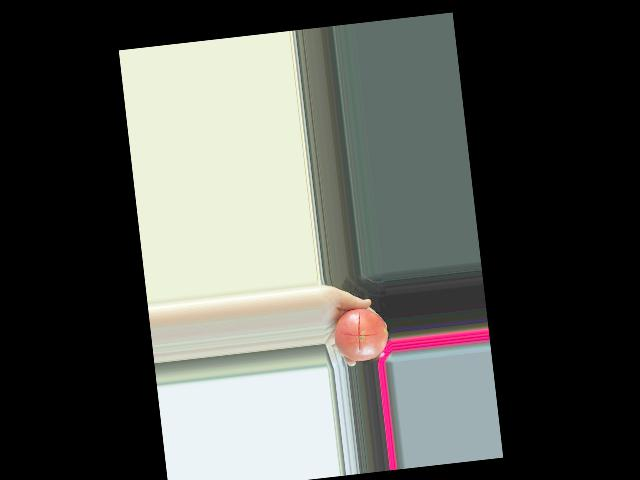tomato: (331, 305, 390, 364)
